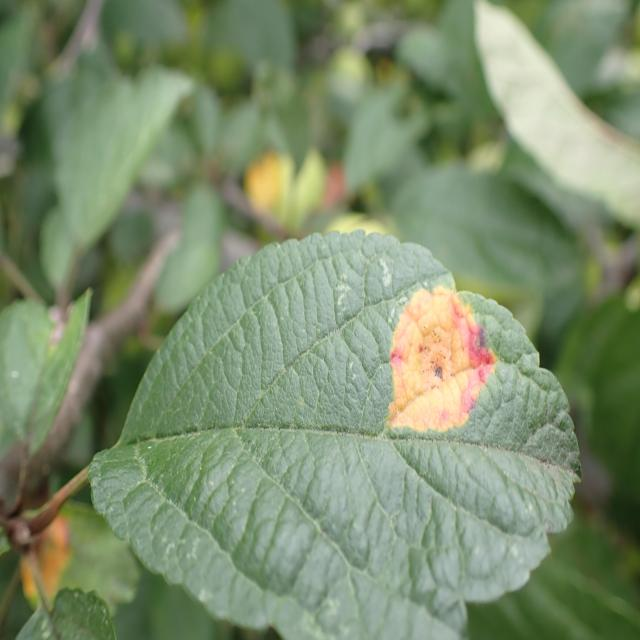Rust: (381, 279, 501, 452)
